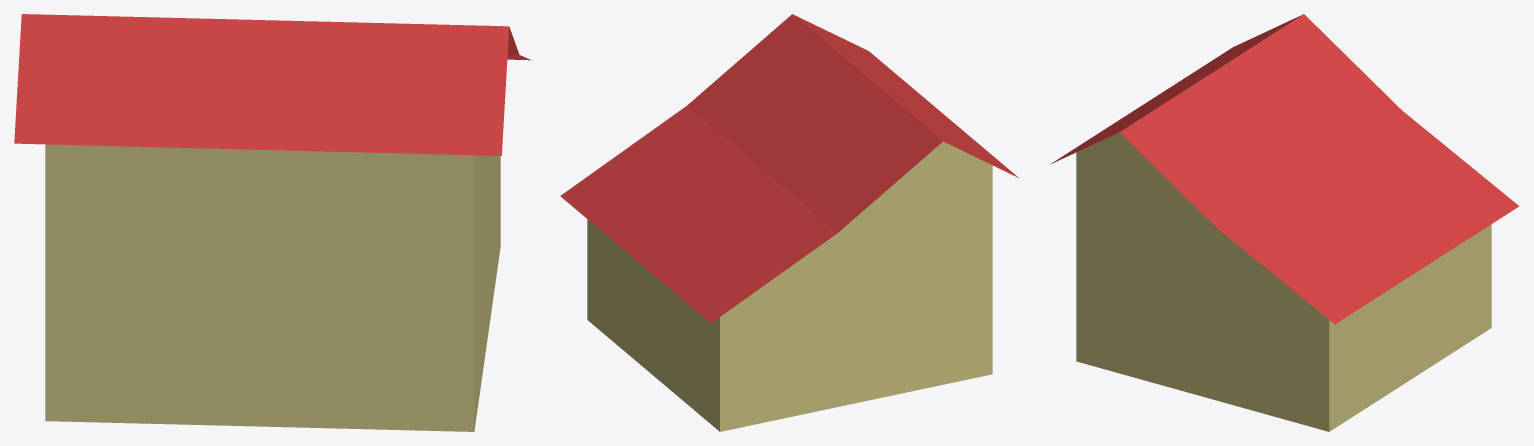
3 views of the same model, side by side, from view 1: azimuth 30°, elevation 25°; view 2: azimuth 150°, elevation 25°; view 3: azimuth 270°, elevation 25° (orthographic). The views are drawn at different scales.
Size of the model in its own units: 17.53 by 17.61 by 10.37.
